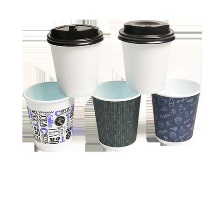paper_cup: (113, 16, 178, 98), (43, 18, 108, 100), (147, 73, 204, 149), (88, 76, 145, 152), (21, 76, 79, 150)
